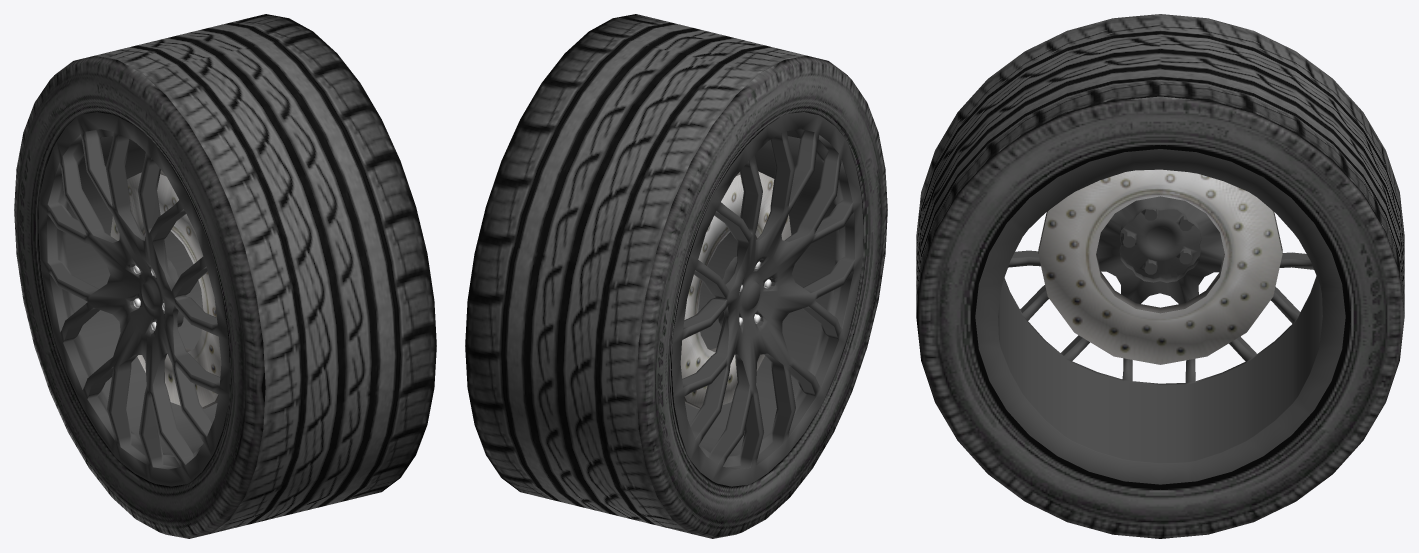
Rendered from XZ_wheel.obj.
The picture shows the model from 3 angles, left to right: view 1: azimuth 30°, elevation 25°; view 2: azimuth 150°, elevation 25°; view 3: azimuth 270°, elevation 25°; orthographic projection.
Bounding box in the file's own units: 0.293 × 0.6584 × 0.6584.
Materials: 1 (1 with a texture image).
